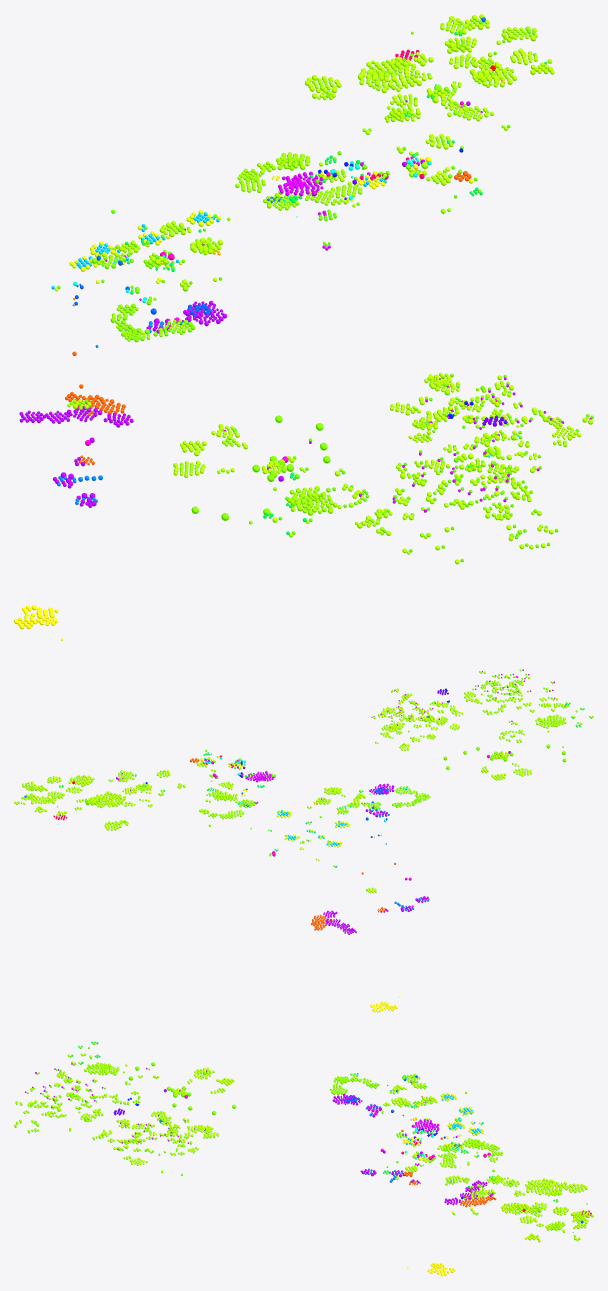
The model's file is task-b7c187f7a-layout.gltf.
3 renders of one model, top to bottom at view 1: azimuth 30°, elevation 25°; view 2: azimuth 150°, elevation 25°; view 3: azimuth 270°, elevation 25°, orthographic. The views are drawn at different scales.
Parts seen in each view (by area): view 1: normal_c_files, normal_h_files, normal_txt_files, normal_png_files, normal_cmake_files, normal_m_files, normal_cpp_files, normal_bmp_files, normal_xml_files; view 2: normal_c_files, normal_h_files, normal_txt_files, normal_png_files; view 3: normal_c_files, normal_h_files, normal_txt_files, normal_png_files, normal_cmake_files, normal_m_files, normal_bmp_files, normal_xml_files.
Part boxes in pixels (<box>): normal_c_files: <box>72,14,593,564</box>; normal_h_files: <box>67,18,588,538</box>; normal_txt_files: <box>57,20,593,562</box>; normal_png_files: <box>19,101,470,507</box>; normal_cmake_files: <box>105,100,591,512</box>; normal_m_files: <box>92,254,589,537</box>; normal_cpp_files: <box>55,166,473,291</box>; normal_bmp_files: <box>143,84,457,520</box>; normal_xml_files: <box>65,171,471,465</box>; normal_c_files: <box>14,671,593,892</box>; normal_h_files: <box>22,672,566,893</box>; normal_txt_files: <box>21,669,590,890</box>; normal_png_files: <box>116,751,510,934</box>; normal_c_files: <box>14,1053,593,1242</box>; normal_h_files: <box>25,1062,590,1230</box>; normal_txt_files: <box>14,1042,587,1237</box>; normal_png_files: <box>163,1089,491,1205</box>; normal_cmake_files: <box>25,1063,510,1196</box>; normal_m_files: <box>34,1073,420,1150</box>; normal_bmp_files: <box>128,1062,541,1214</box>; normal_xml_files: <box>401,1096,496,1207</box>.
Bounding box in the file's own units: 437 × 236 × 557.
